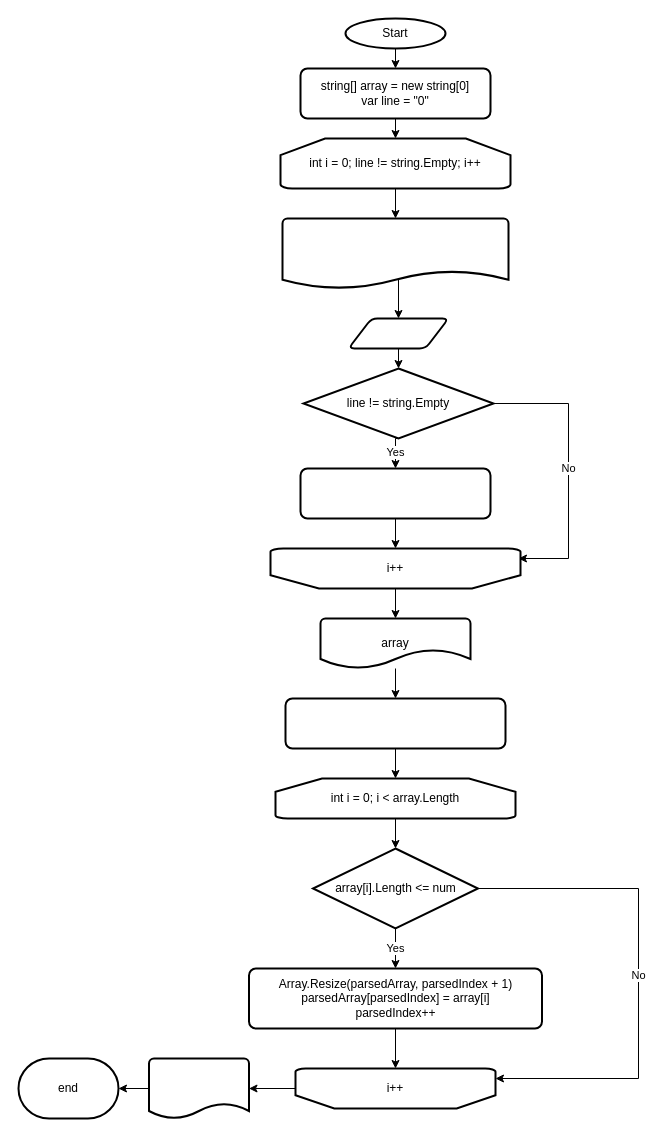
This 664x1136 diagram has some shape labels left out. The centre of each missing label's shape, as x and y in pixels:
Array.Resize(array, i + 1) array[i] = line: (395,493)
Give string, or enter empty to exit: (395,253)
line: (398,333)
parsedArray: (199,1088)
string[] parsedArray = new string[0] int parsedIndex = 0: (395,723)
